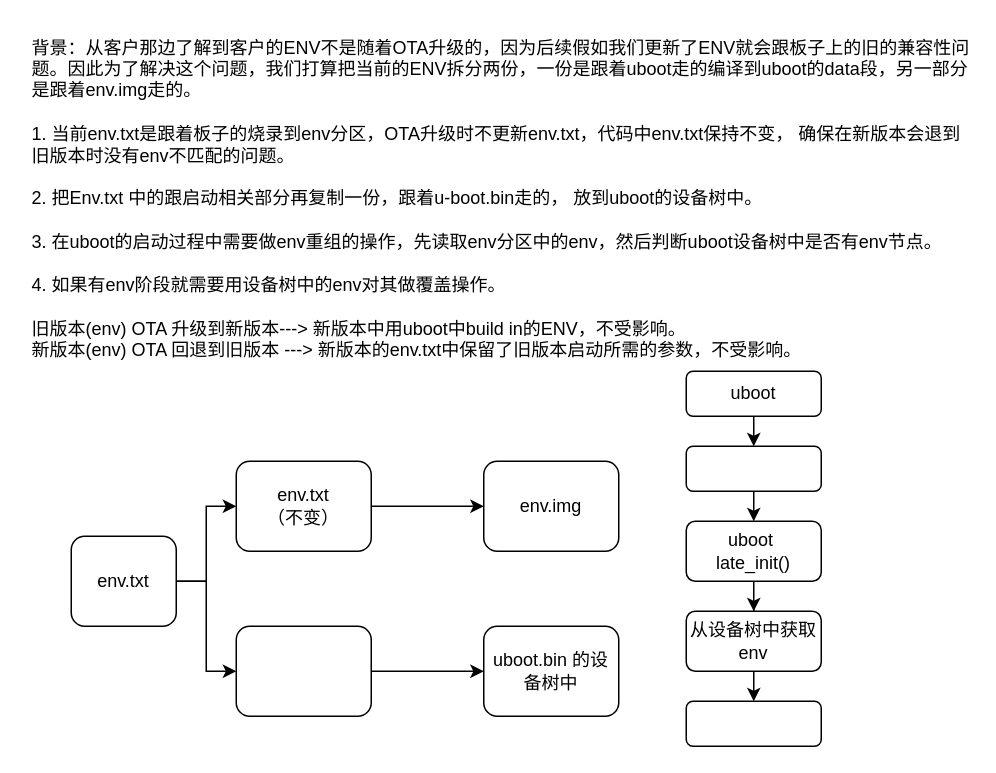
Some shapes in this 996 by 773 pixel diagram are drawn without their labels. The shapes that lost their labels are listed below. From the top down, each one's box as (x1, y1, x2, y2) in pixels, then its label:
(685, 445, 821, 491): 读取env.img
(235, 625, 371, 716): 把env.txt中的部分跟启动内容 copy一份放到dts
(685, 700, 821, 746): 对env.img做覆盖操作
